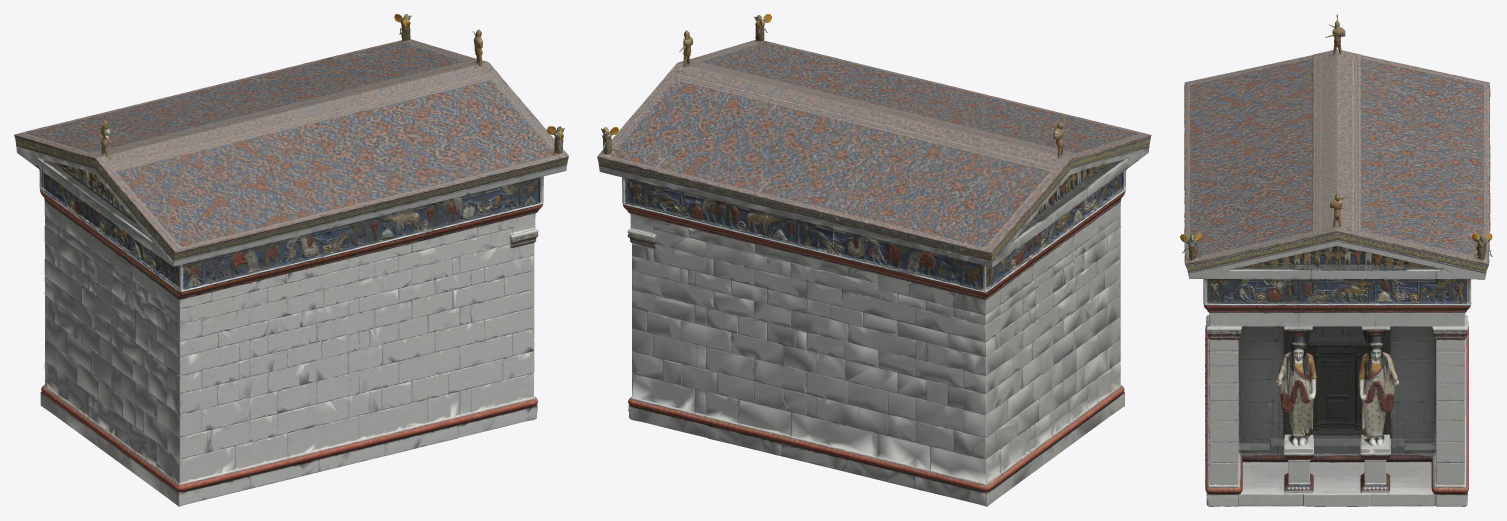
Rendered from Siphnian_Treasury_at_Delphi.min.glb.
3 views of the same model, side by side, from view 1: azimuth 30°, elevation 25°; view 2: azimuth 150°, elevation 25°; view 3: azimuth 270°, elevation 25° (orthographic). The views are drawn at different scales.
Parts seen in each view (by area): view 1: tripo_node_8c53050f-163a-4df0-82d3-32112e76153a; view 2: tripo_node_8c53050f-163a-4df0-82d3-32112e76153a; view 3: tripo_node_8c53050f-163a-4df0-82d3-32112e76153a.
Boxes of the visible parts, left/top/right/bottom form: tripo_node_8c53050f-163a-4df0-82d3-32112e76153a: left=14, top=14, right=568, bottom=506; tripo_node_8c53050f-163a-4df0-82d3-32112e76153a: left=597, top=14, right=1151, bottom=506; tripo_node_8c53050f-163a-4df0-82d3-32112e76153a: left=1180, top=14, right=1492, bottom=506.
Size of the model in its own units: 0.9819 by 0.817 by 0.7125.
1 material, 1 textured.
